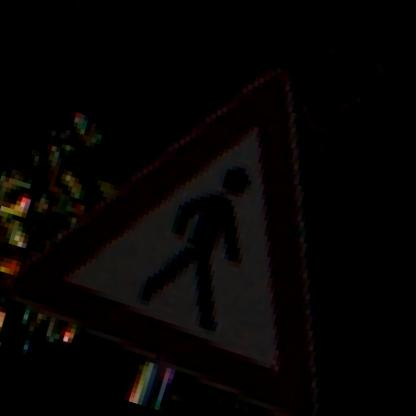crosswalk: (0, 4, 405, 415)
